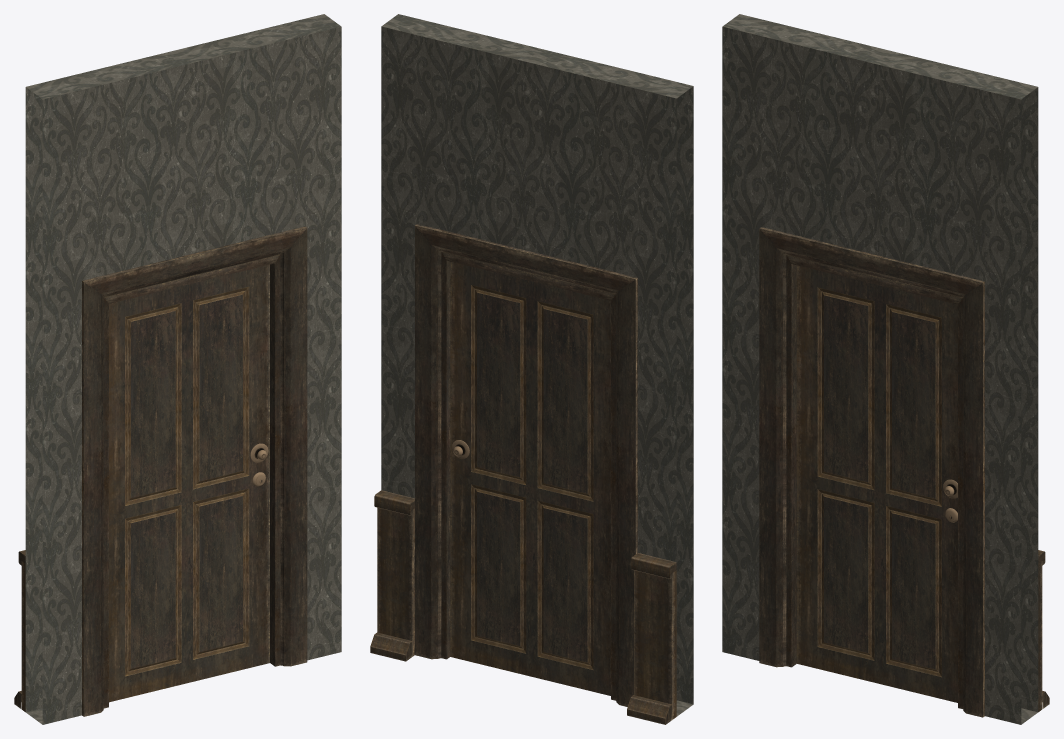
The model's file is SM_Wall_Door_2m.fbx.
The picture shows the model from 3 angles, left to right: view 1: azimuth 30°, elevation 25°; view 2: azimuth 150°, elevation 25°; view 3: azimuth 330°, elevation 25°; orthographic projection.
Parts seen in each view (by area): view 1: SM_Wall_Door_2m, SM_Door; view 2: SM_Wall_Door_2m, SM_Door; view 3: SM_Wall_Door_2m, SM_Door.
Part boxes in pixels (x1,y1,x2,y2): SM_Wall_Door_2m: [14, 14, 341, 724]; SM_Door: [109, 264, 269, 702]; SM_Wall_Door_2m: [370, 14, 693, 724]; SM_Door: [450, 261, 610, 695]; SM_Wall_Door_2m: [722, 14, 1049, 724]; SM_Door: [796, 265, 957, 702].
Size of the model in its own units: 2 by 4 by 0.3535.
